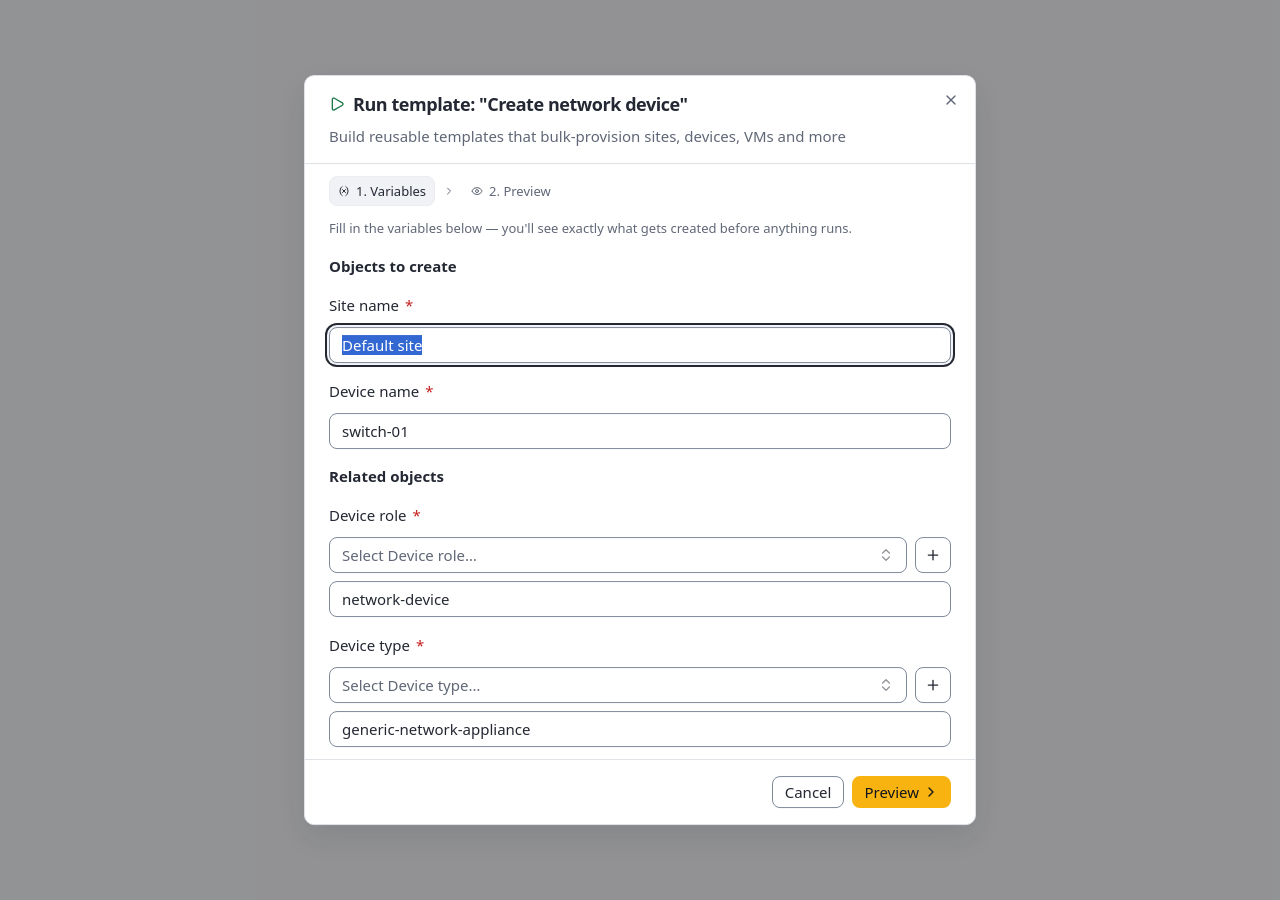
Test: TemplateRunDialog reference variables › does not read top-level field errors as a second envelope
Click the button "Preview": (902,792) [852,776,951,808]
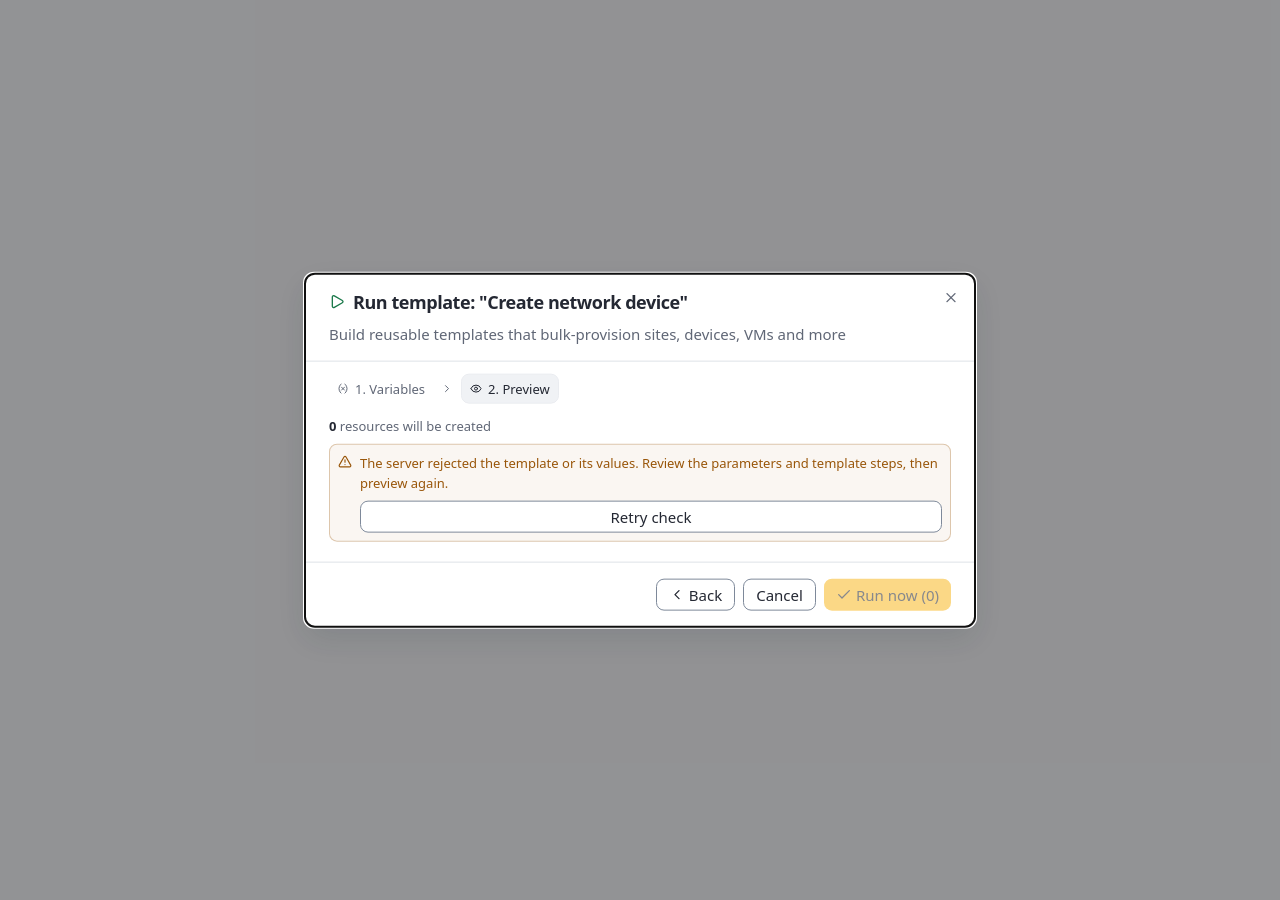
Result: the message shows "template steps" at [360,453,938,491]
Result: the label "Device name" is gone
